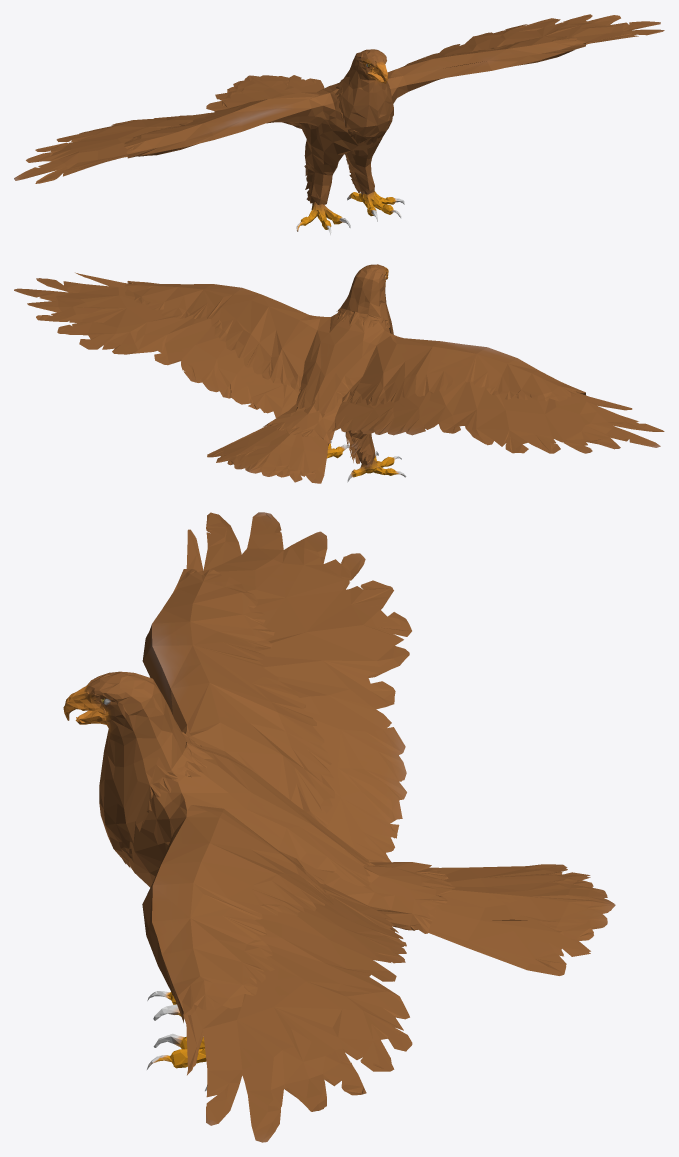
Rendered from aguila-real2.fbx.
3 renders of one model, top to bottom at view 1: azimuth 30°, elevation 25°; view 2: azimuth 150°, elevation 25°; view 3: azimuth 270°, elevation 25°, orthographic. The views are drawn at different scales.
Visible parts, largest first — view 1: Eagle02_sale; view 2: Eagle02_sale; view 3: Eagle02_sale.
Part boxes in pixels (x1,y1,x2,y2): Eagle02_sale: (14,14,664,235); Eagle02_sale: (14,264,664,483); Eagle02_sale: (63,512,615,1142).
Size of the model in its own units: 2319 by 627 by 858.
